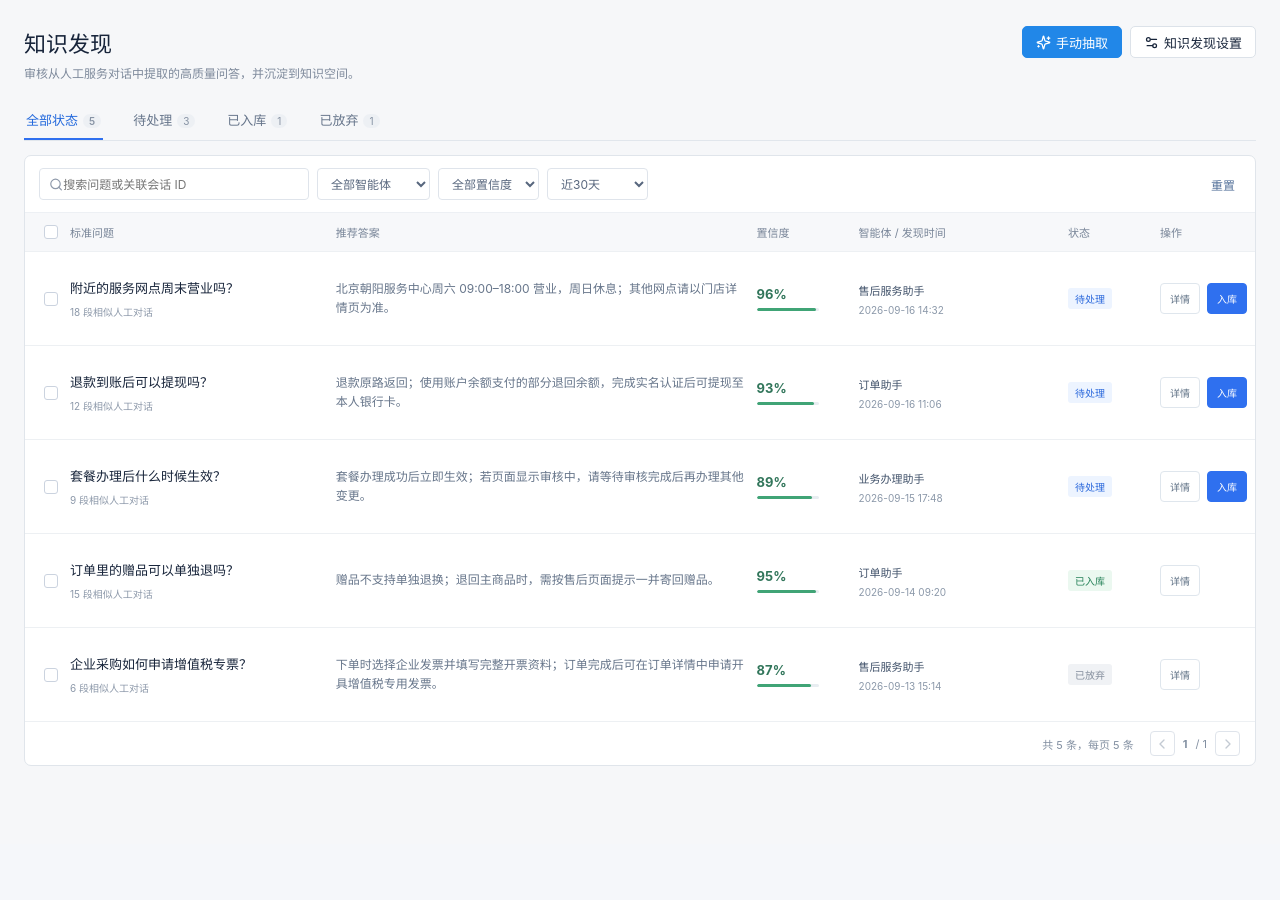
Test: KnowledgeDiscoveryPage › shows a real custom date range and runs a manual extraction task
Select "自定义时间" in the dropdown named "按发现时间筛选": (598, 184) [547, 168, 648, 200]
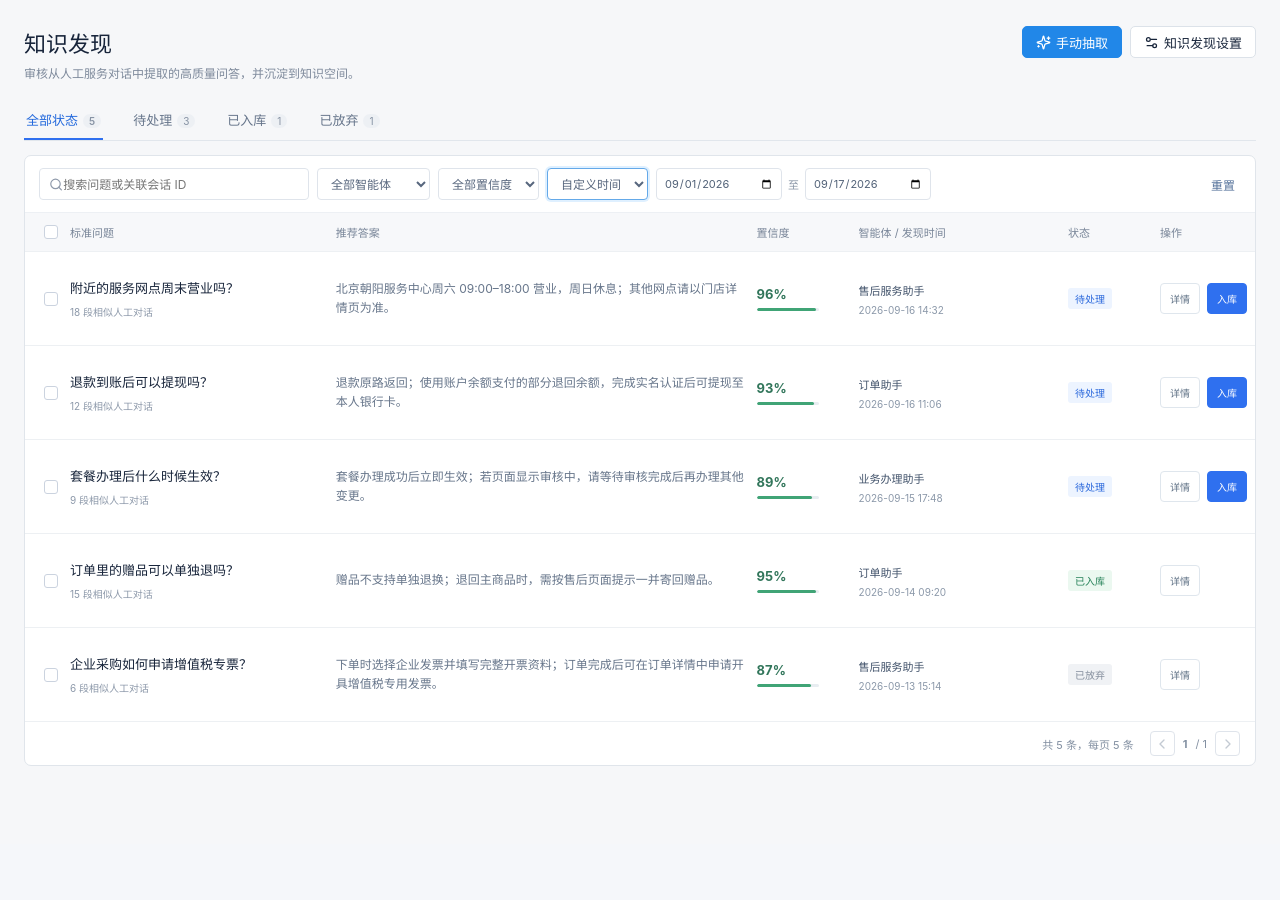
Click the button "手动抽取": (1072, 42) [1022, 26, 1122, 58]
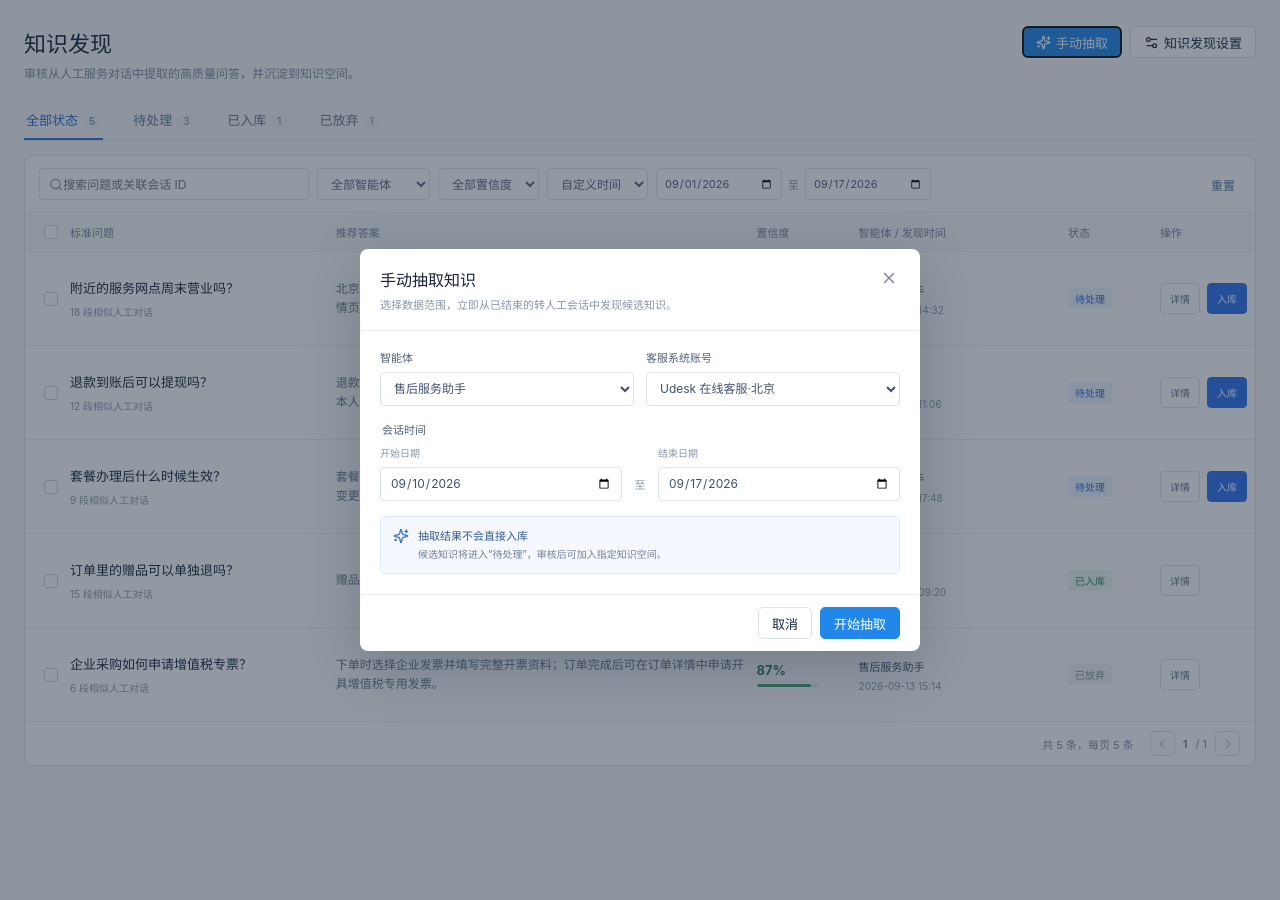
Select "订单助手" in the dropdown named "抽取智能体": (507, 389) [380, 372, 634, 406]
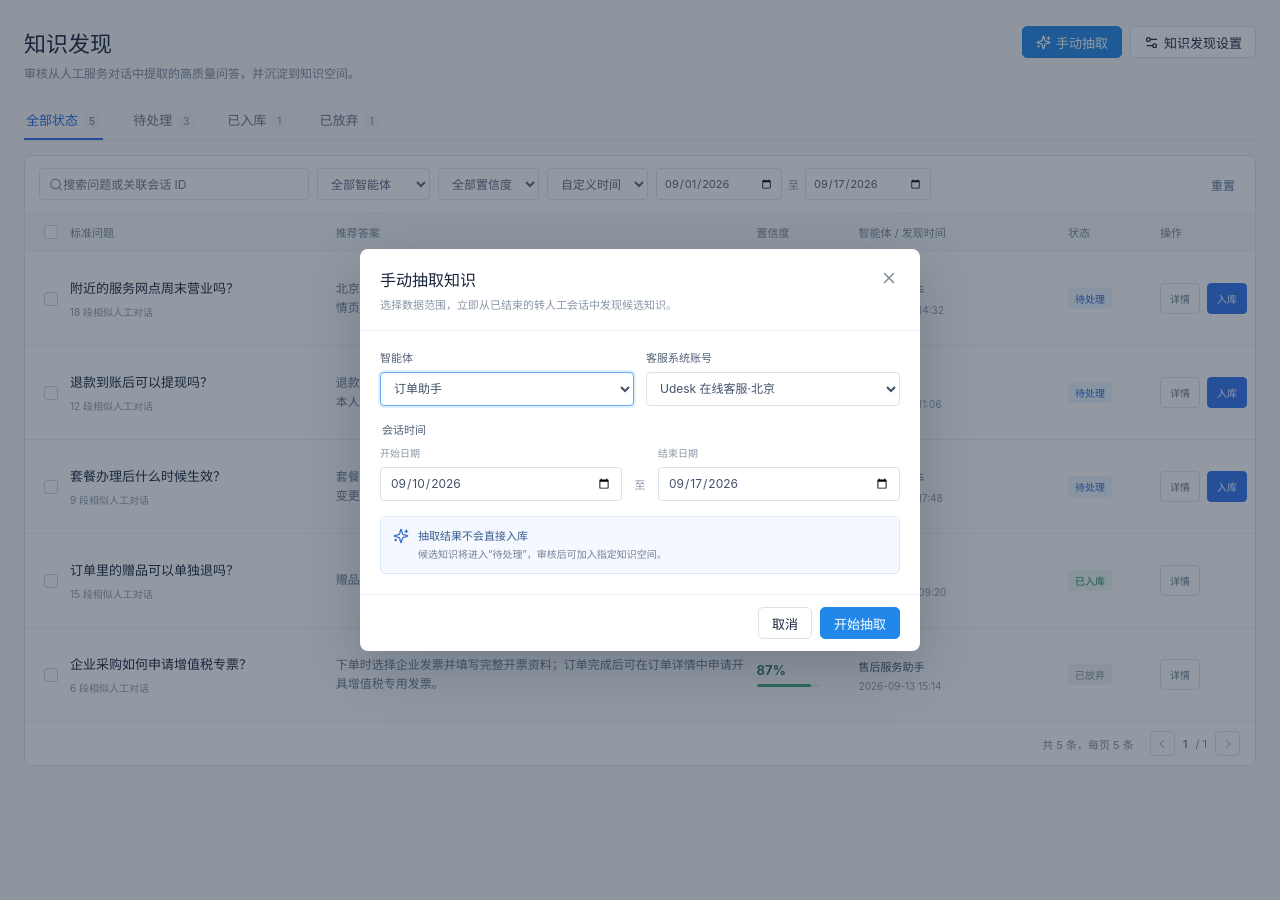
Select "Udesk IM·电商售后" in the dropdown named "抽取客服系统账号": (773, 389) [646, 372, 900, 406]
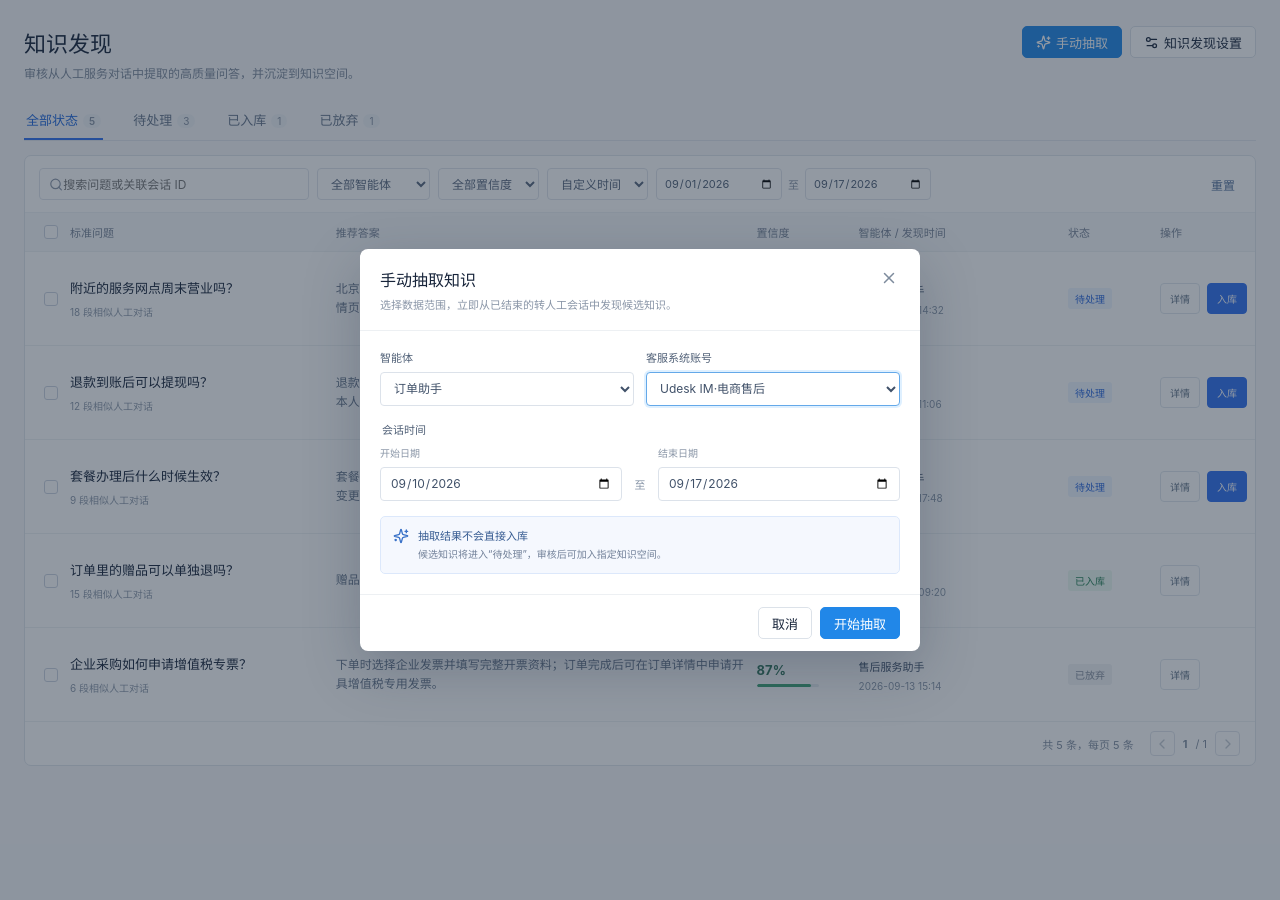
In the date field named "手动抽取开始日期": (501, 484) [380, 467, 622, 501], type "2026-09-15"
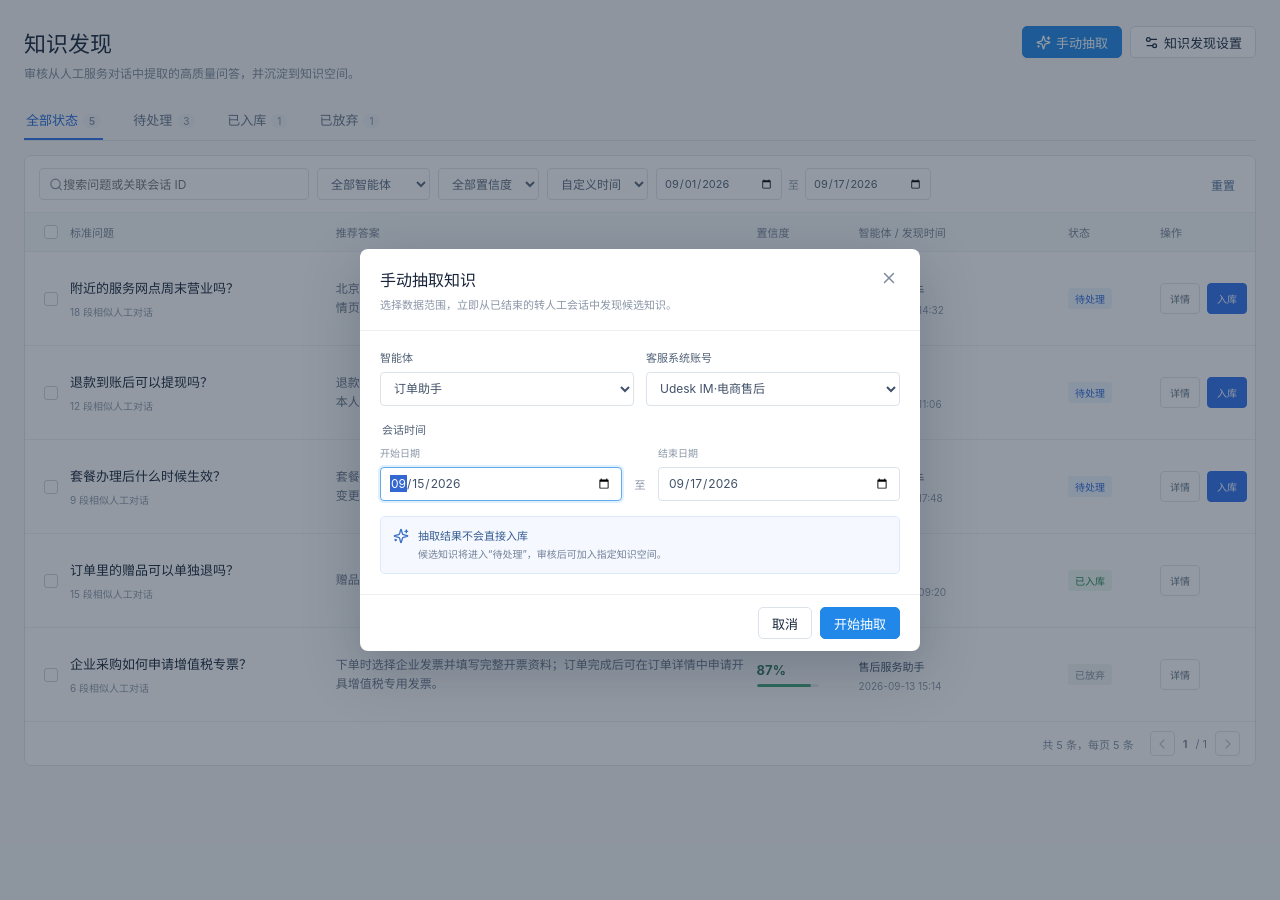
Click the button "开始抽取": (860, 623) [820, 607, 900, 639]
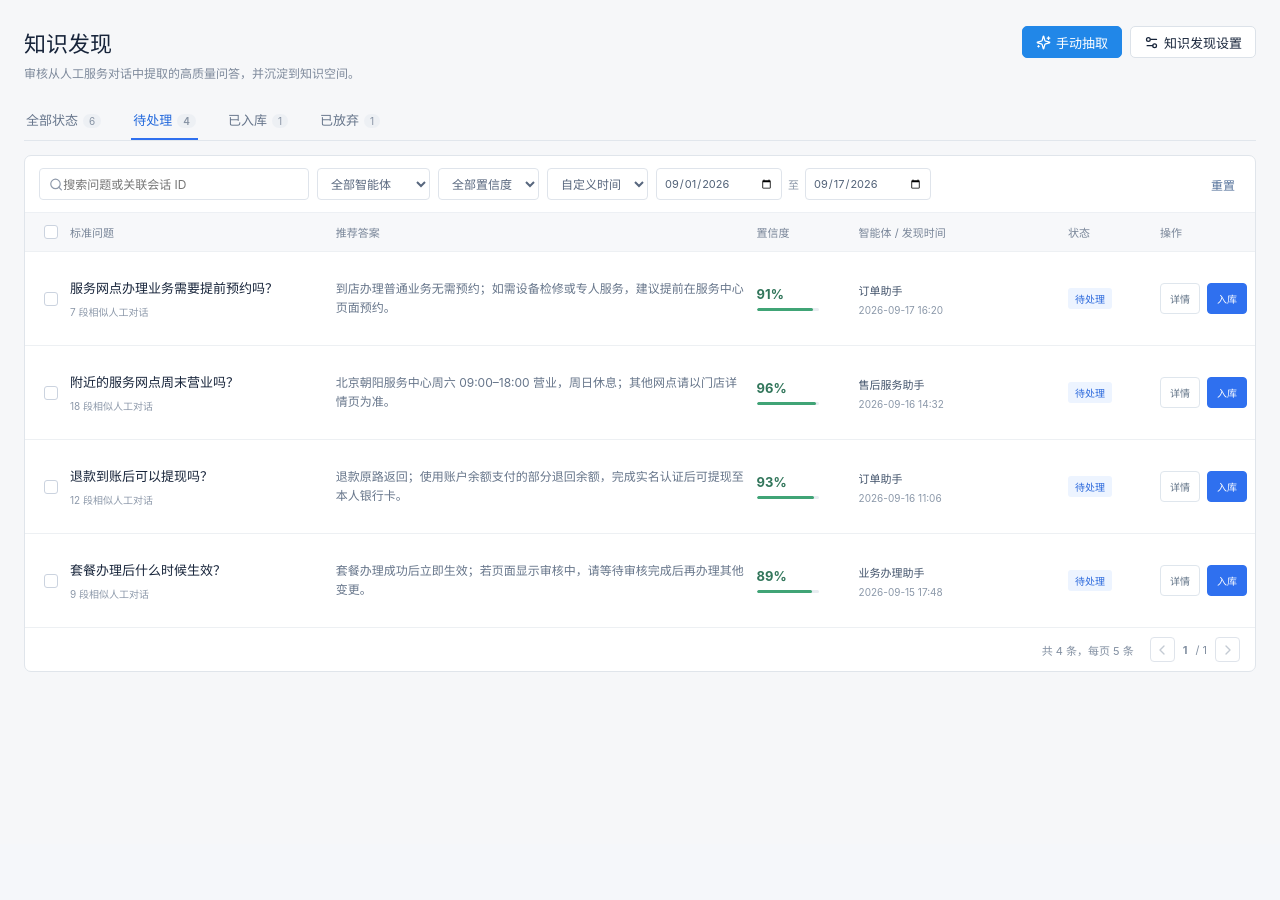
Result: the heading "手动抽取知识" is gone
Result: the text "服务网点办理业务需要提前预约吗？" is shown at [70, 280, 278, 296]
